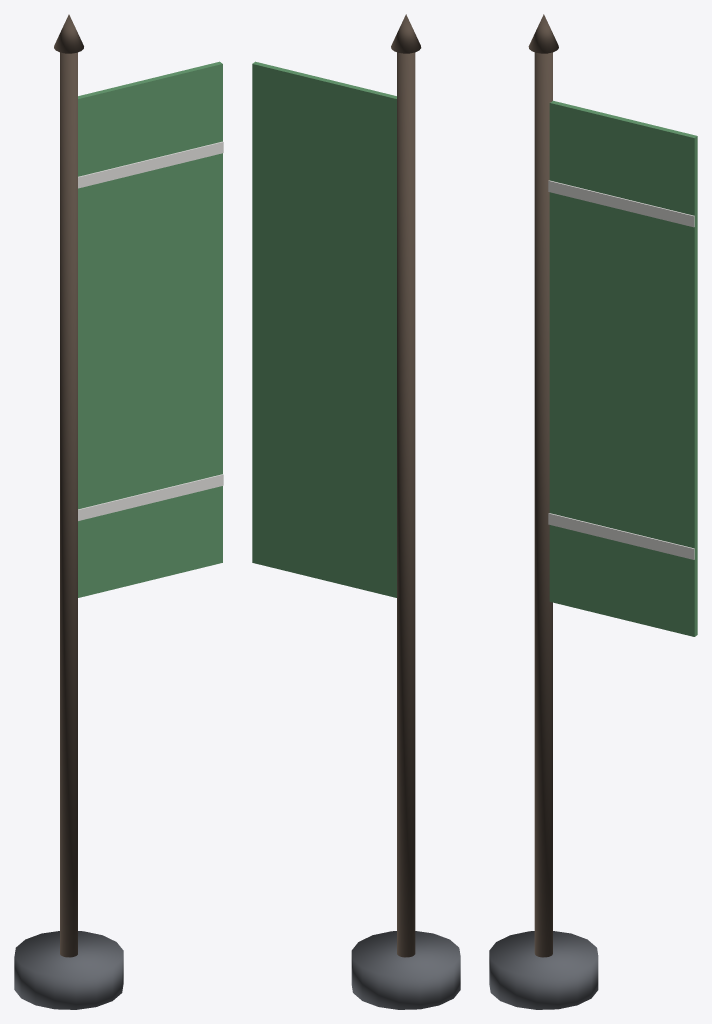
File: prop_tate_nobori_green.glb
3 views of the same model, side by side, from view 1: azimuth 30°, elevation 25°; view 2: azimuth 150°, elevation 25°; view 3: azimuth 330°, elevation 25° (orthographic).
Visible parts, largest first — view 1: tate_nobori_green; view 2: tate_nobori_green; view 3: tate_nobori_green.
Boxes of the visible parts, bbox=[...] form: tate_nobori_green: bbox=[14, 14, 223, 1009]; tate_nobori_green: bbox=[252, 14, 460, 1009]; tate_nobori_green: bbox=[489, 14, 697, 1009].
Size of the model in its own units: 0.755 by 3.51 by 0.36.
